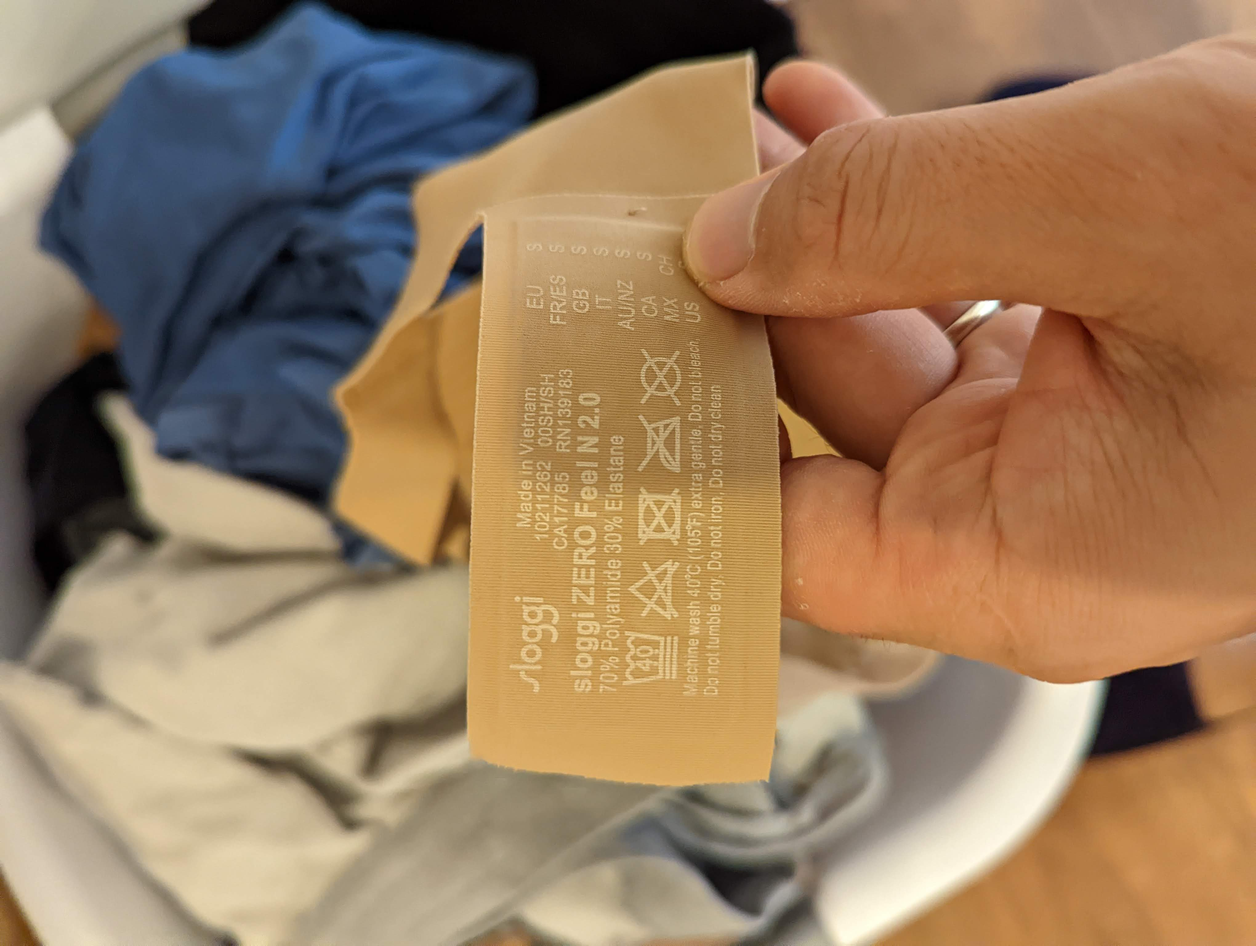ER_no_bleach: (627, 556, 681, 623)
ER_no_iron: (634, 411, 687, 477)
ER_no_tumble_dry: (632, 342, 687, 411), (635, 481, 684, 548)
ER_wash_40_mild: (622, 628, 683, 690)
